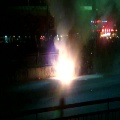fire: (54, 53, 74, 82)
